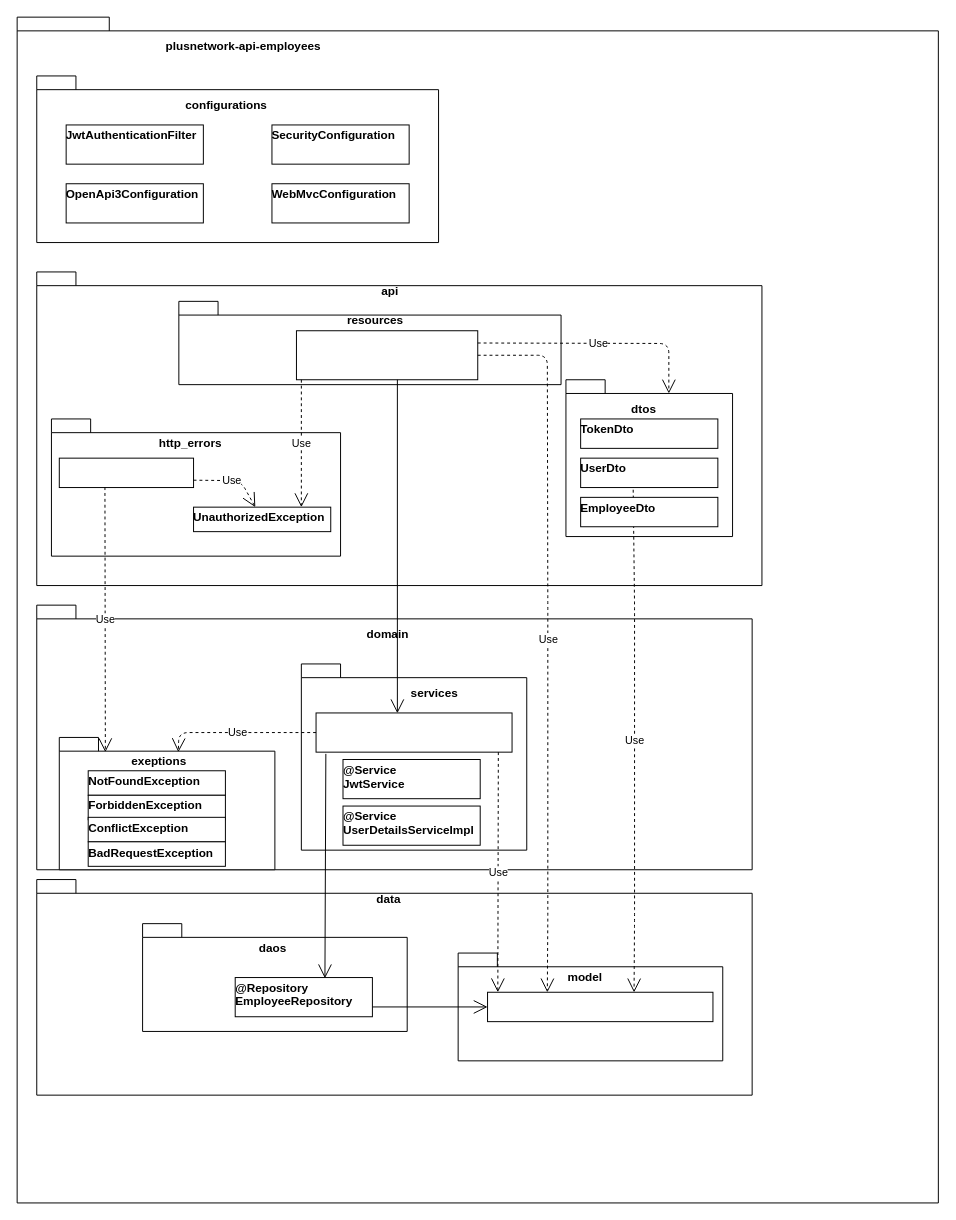
This 956x1220 diagram has some shape labels left out. Here are the shapes that lost their labels. From the top down, the centre of each, then its label:
point 386,355: <<@RestController>> <<@RequestMapping(/users)>> UserResource
point 126,472: ApiExceptionHandler
point 413,732: @Service EmployeeService
point 600,1006: Employee
